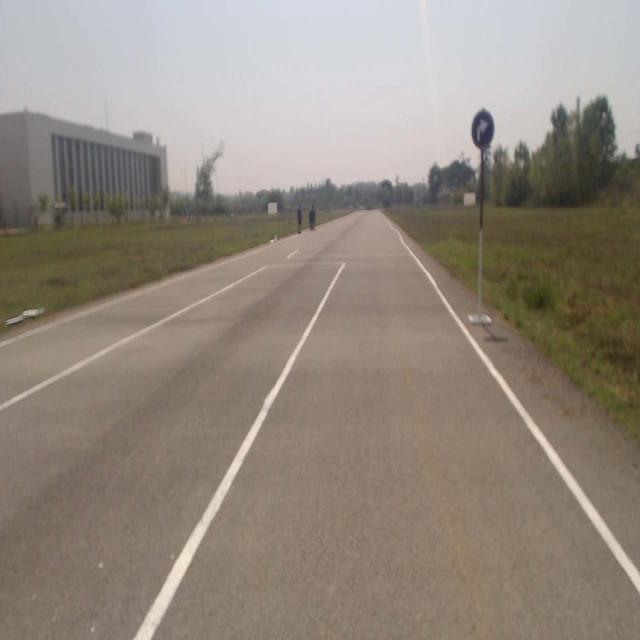sag: (471, 110, 494, 152)
